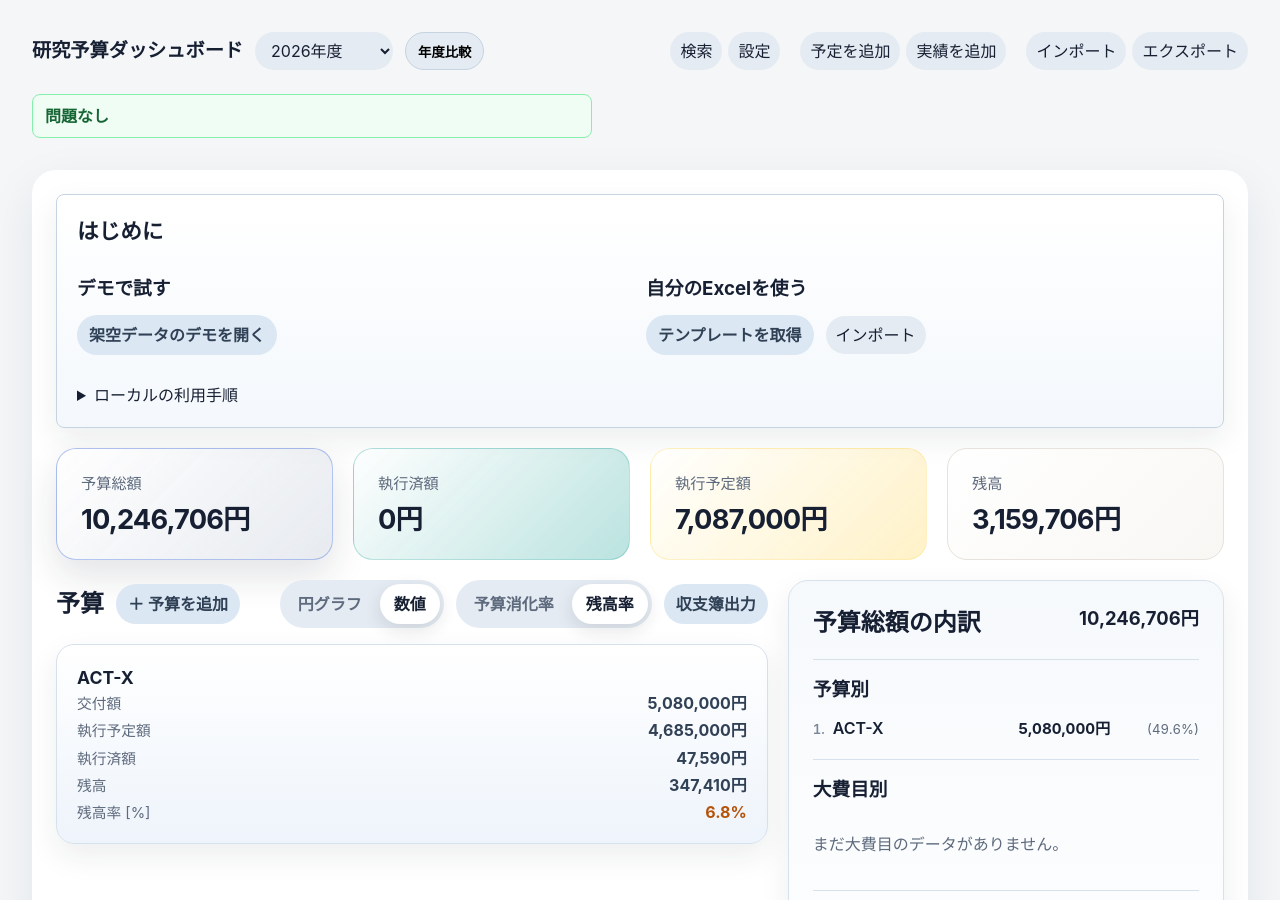
Overview display › uses the saved default rate metric and overview display mode when the URL does not override them
Check: the link "ACT-X" is shown, box x1=56 y1=644 x2=768 y2=844
Check: the text "残高率 [%]" is shown, box x1=77 y1=804 x2=150 y2=823
Click the button "予算消化率".
click(514, 604)  # box x1=460 y1=584 x2=568 y2=624
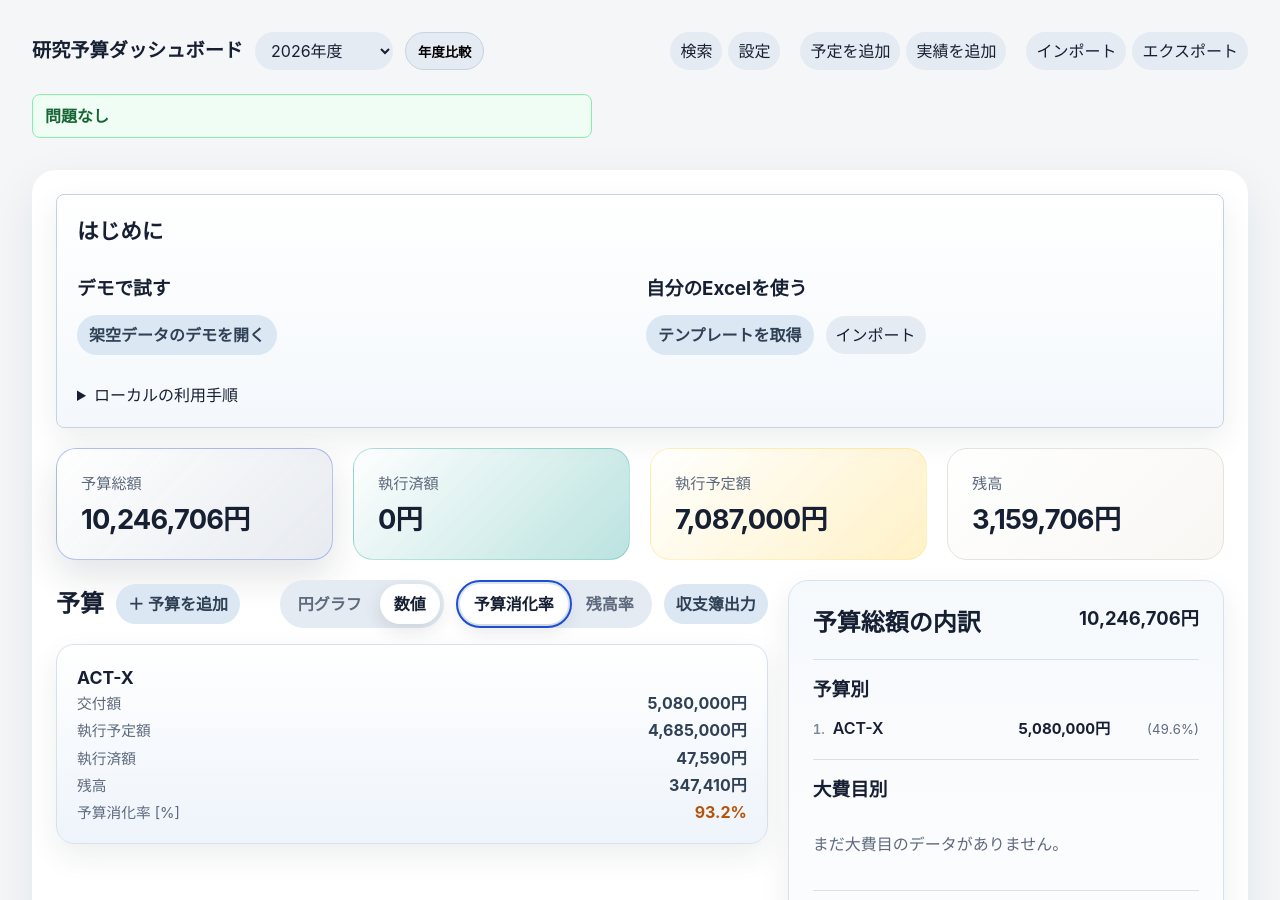
Check: the text "予算消化率 [%]" is shown, box x1=77 y1=804 x2=180 y2=823
Check: the text "93.2%" is shown, box x1=695 y1=802 x2=747 y2=823
